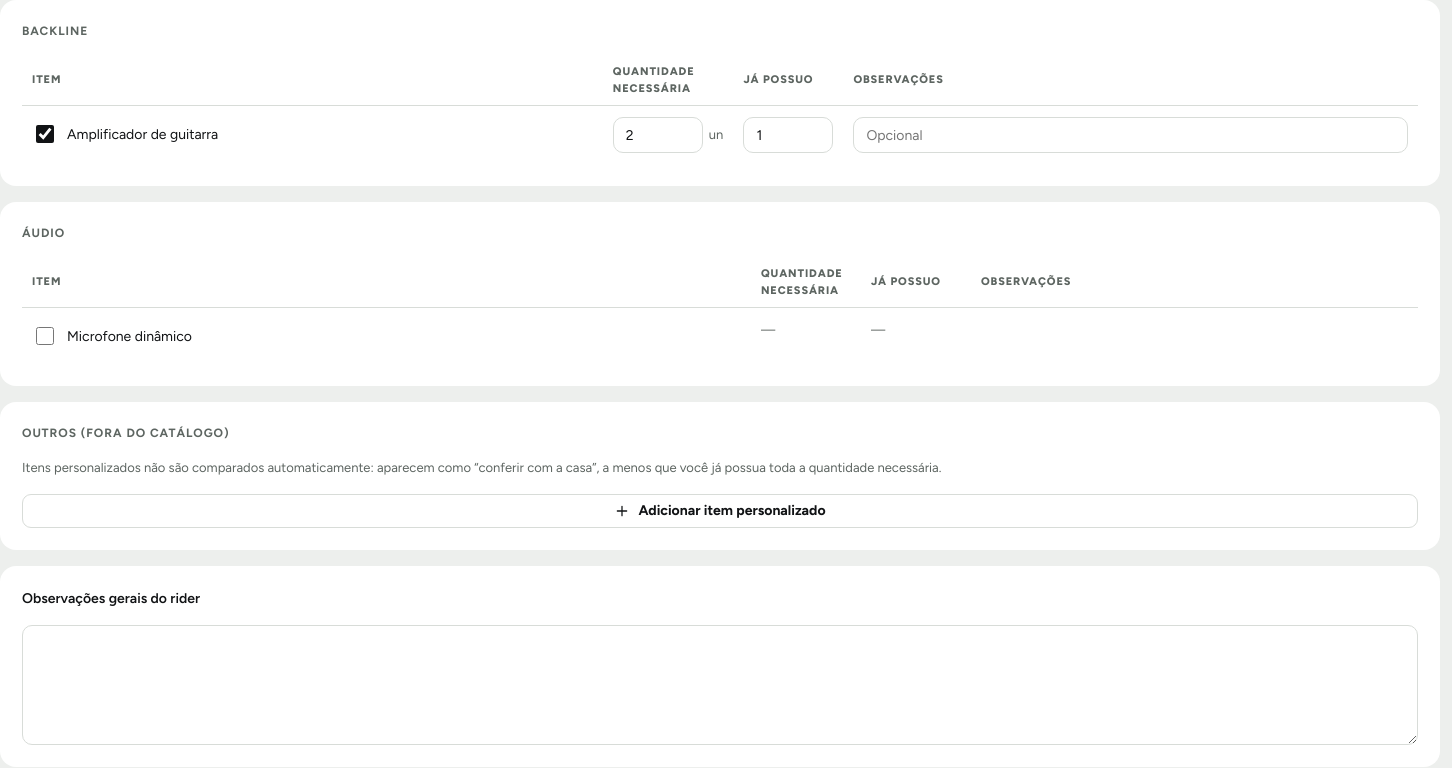
Test: editor do rider: o que preciso × o que já possuo › envia a quantidade possuída e nunca deixa passar do necessário
The width and height of the screenshot is (1452, 768).
Later steps or results of the test are not shown.
Replace the text in the number field named "Quantidade que você já possui de Amplificador de guitarra" with "9": [788, 135] box [743,117,833,153]
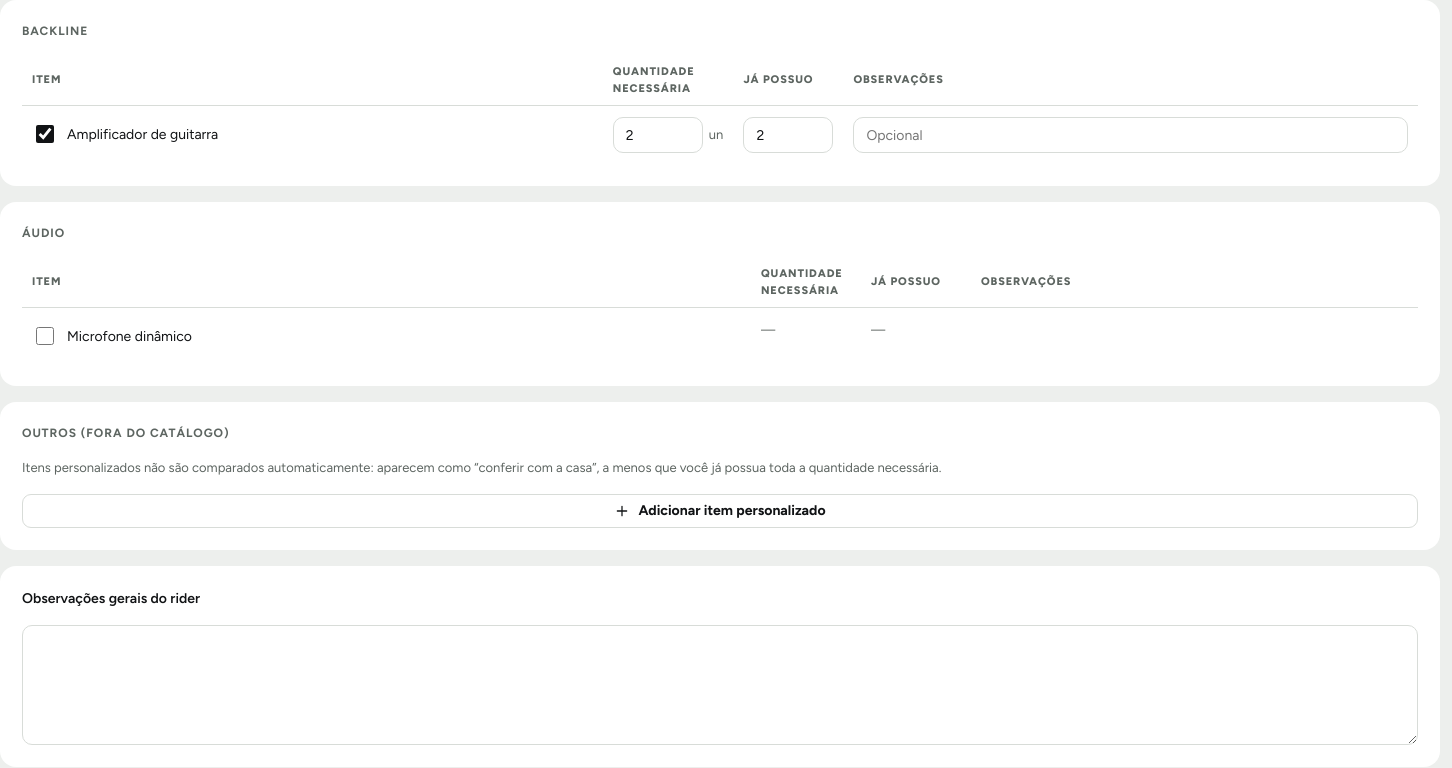
Expected: the number field named "Quantidade que você já possui de Amplificador de guitarra" holds "2", [743,117,833,153]
Replace the text in the number field named "Quantidade necessária de Amplificador de guitarra" with "1": [658, 135] box [613,117,703,153]
(page scrolled)
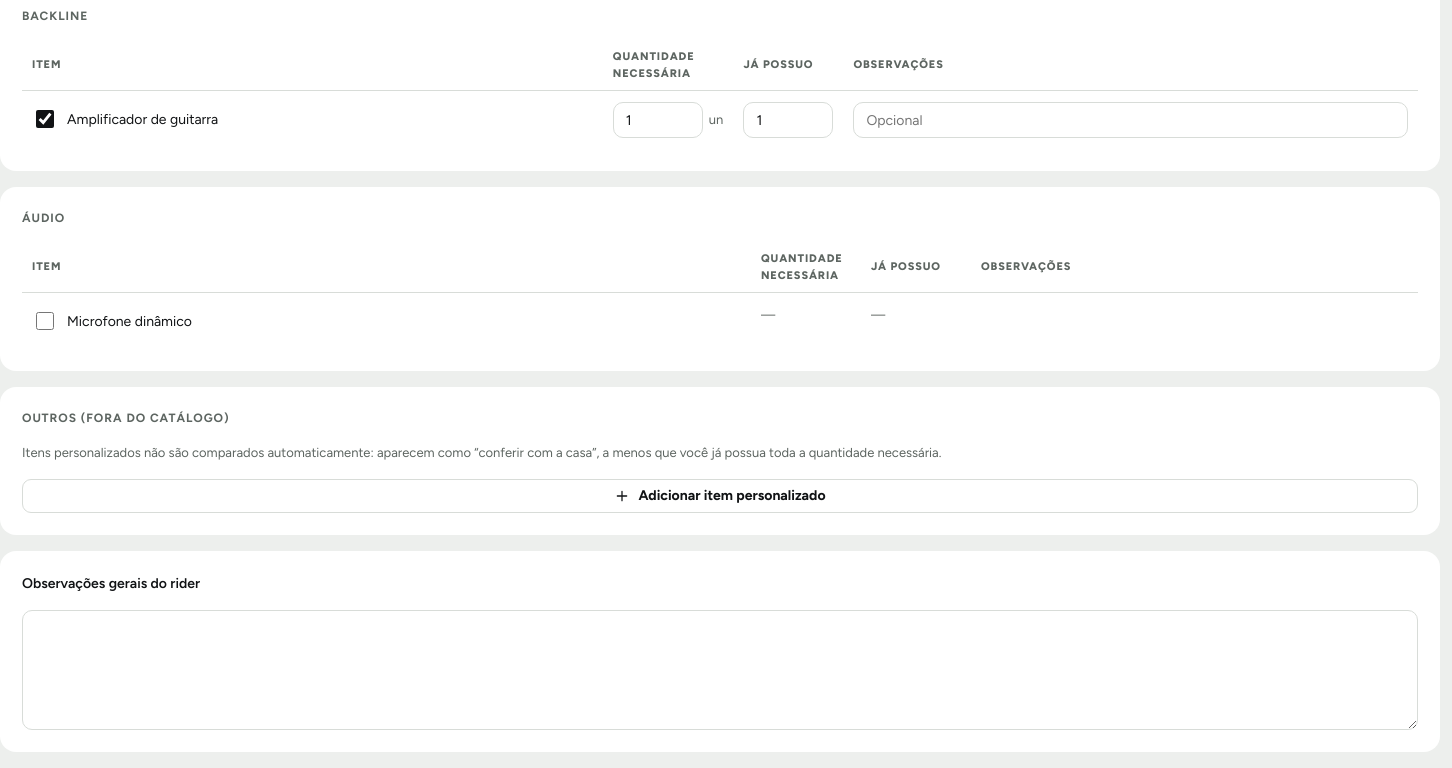
Expected: the number field named "Quantidade que você já possui de Amplificador de guitarra" holds "1", [743,102,833,138]
